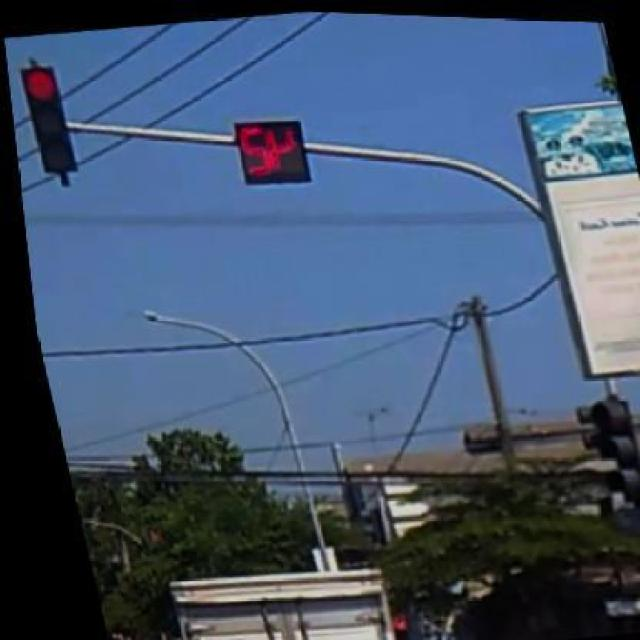Traffic Light -Red-: (12, 60, 82, 180)
